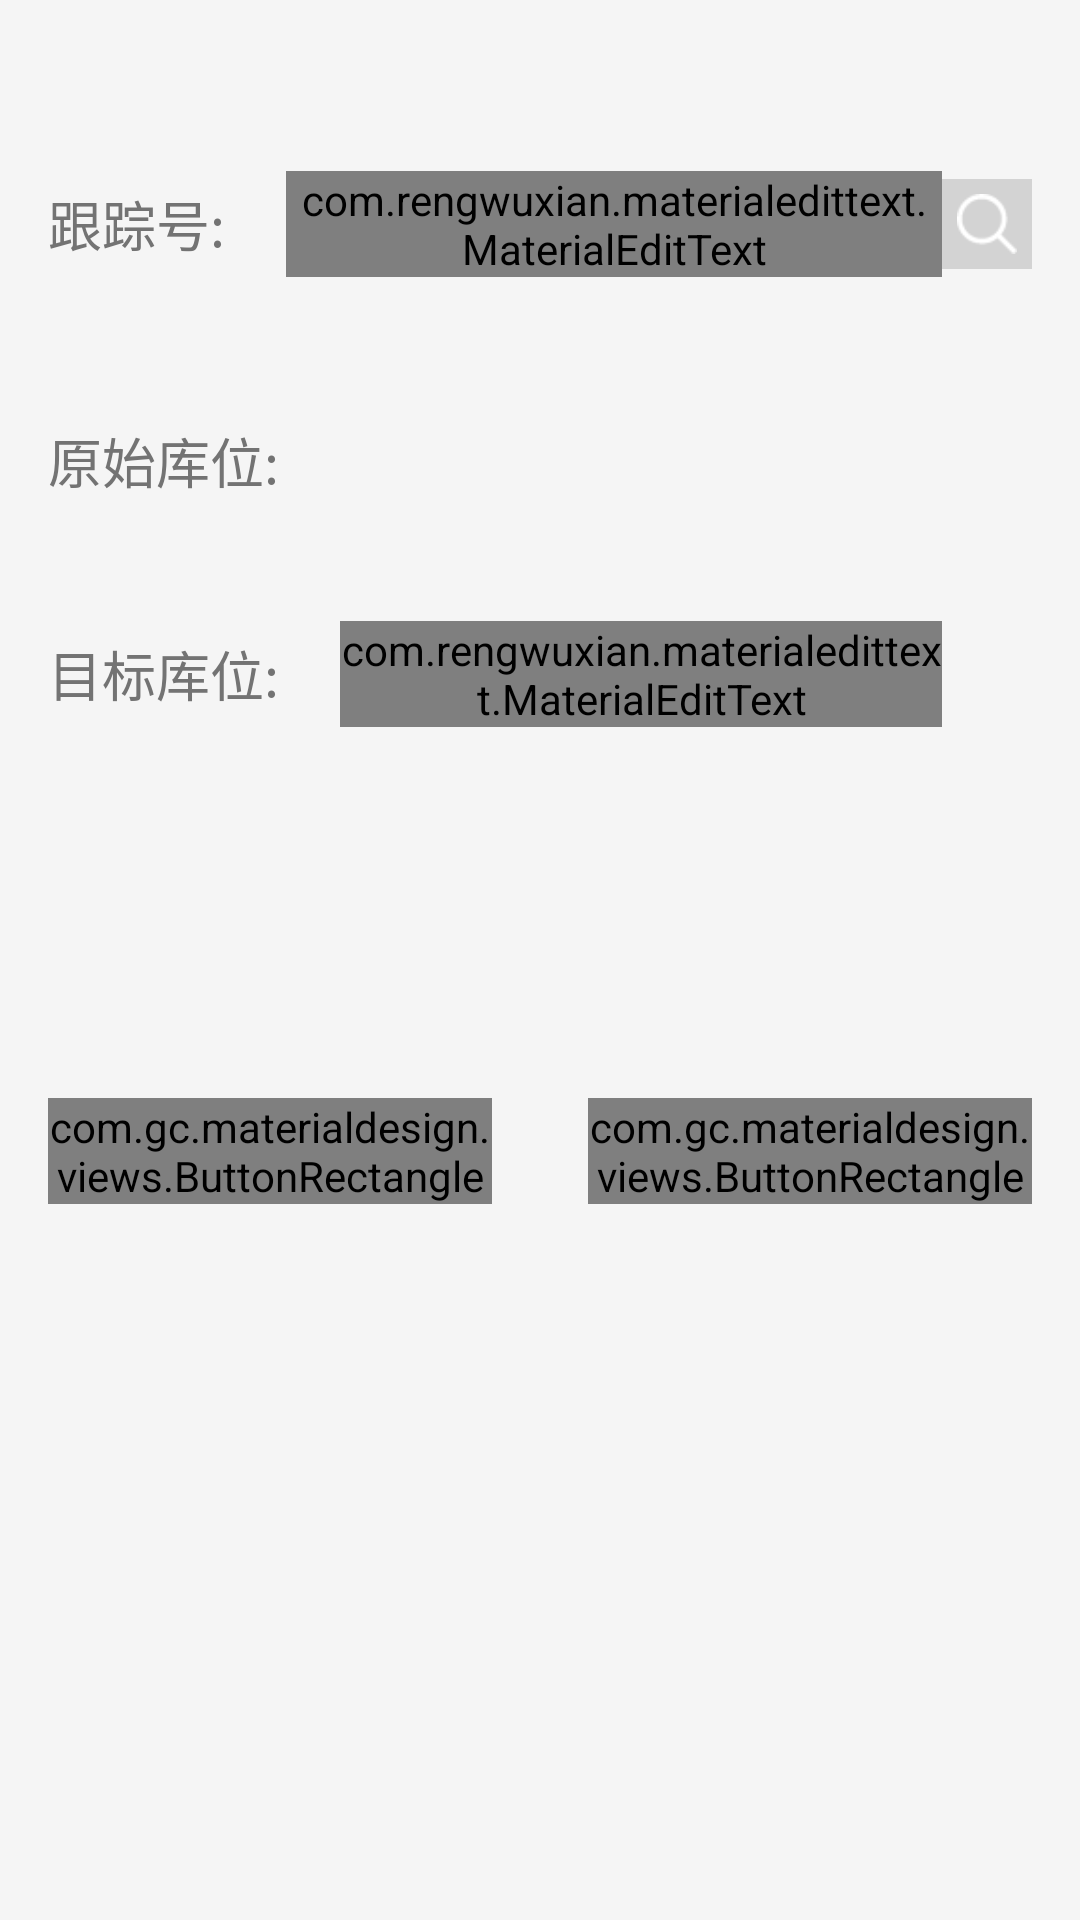

Icons on this 1080x1920 Android screen, each with the point to tap as (x,y):
search: (987,224)
